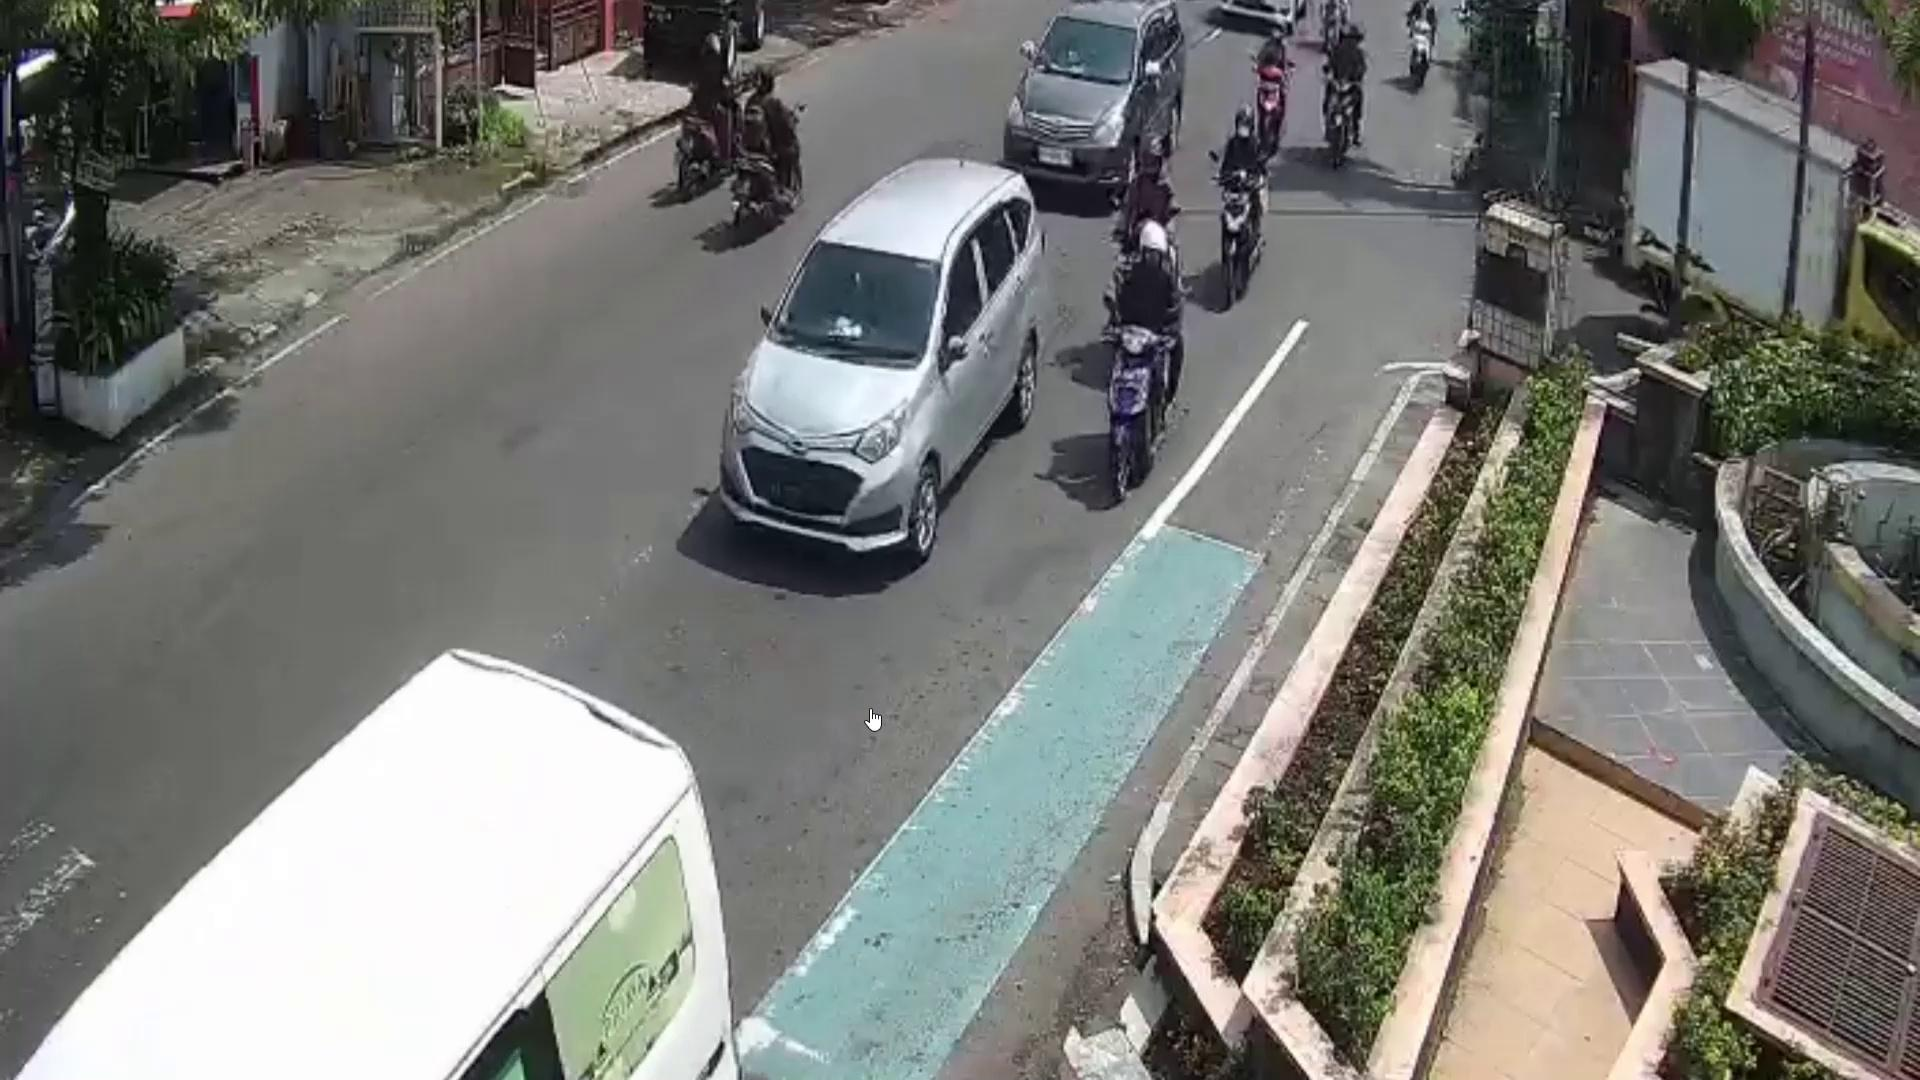car: (0, 651, 738, 1080), (719, 153, 1042, 562), (1009, 0, 1184, 190)
motorbike: (1104, 322, 1150, 505), (1216, 170, 1258, 307), (1324, 74, 1362, 185), (1254, 61, 1283, 150)
truck: (1615, 58, 1920, 381)
